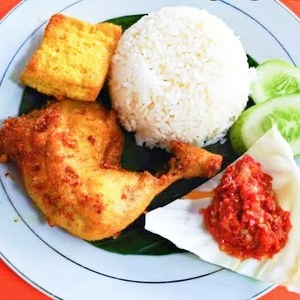ayam_goreng: (6, 96, 223, 243)
